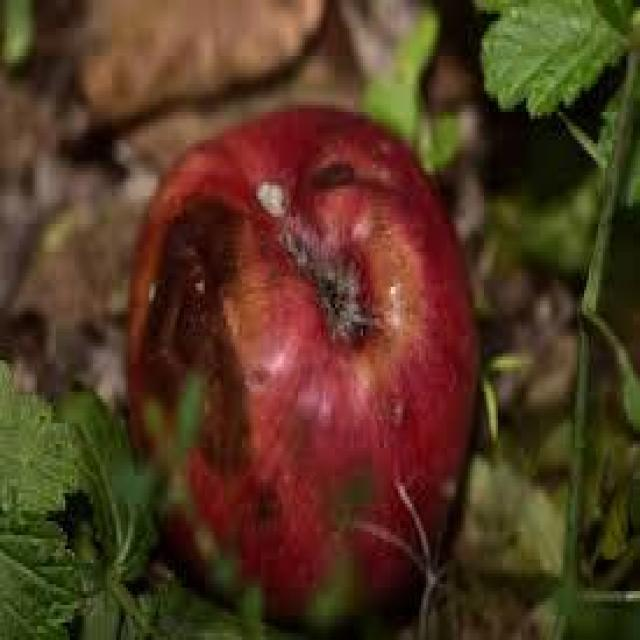Apple: (138, 103, 482, 640)
